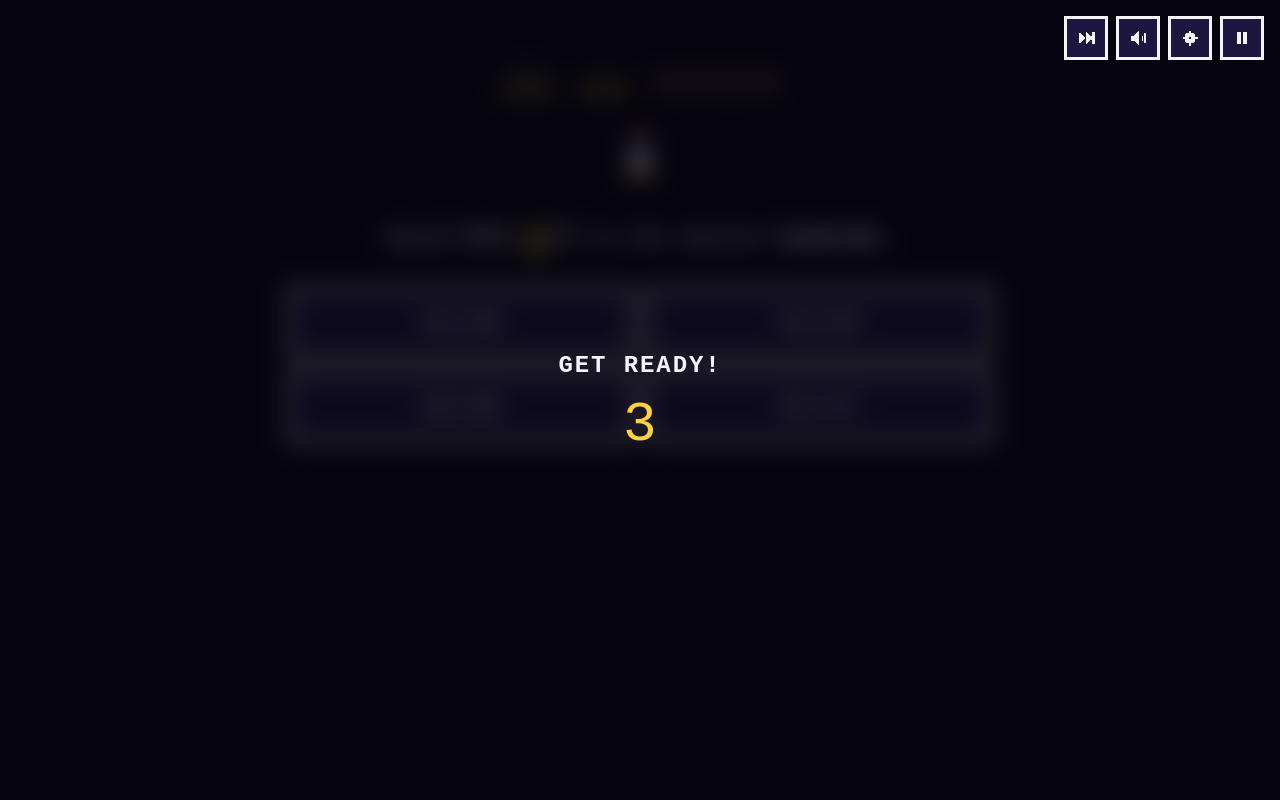
Scenario: GameScreen › opens the pause menu when Pause is pressed
What coordinates should you click on to do the following:
click the button named "Pause"
I would click on:
 (1242, 38)
Its box is [1220,16,1264,60].
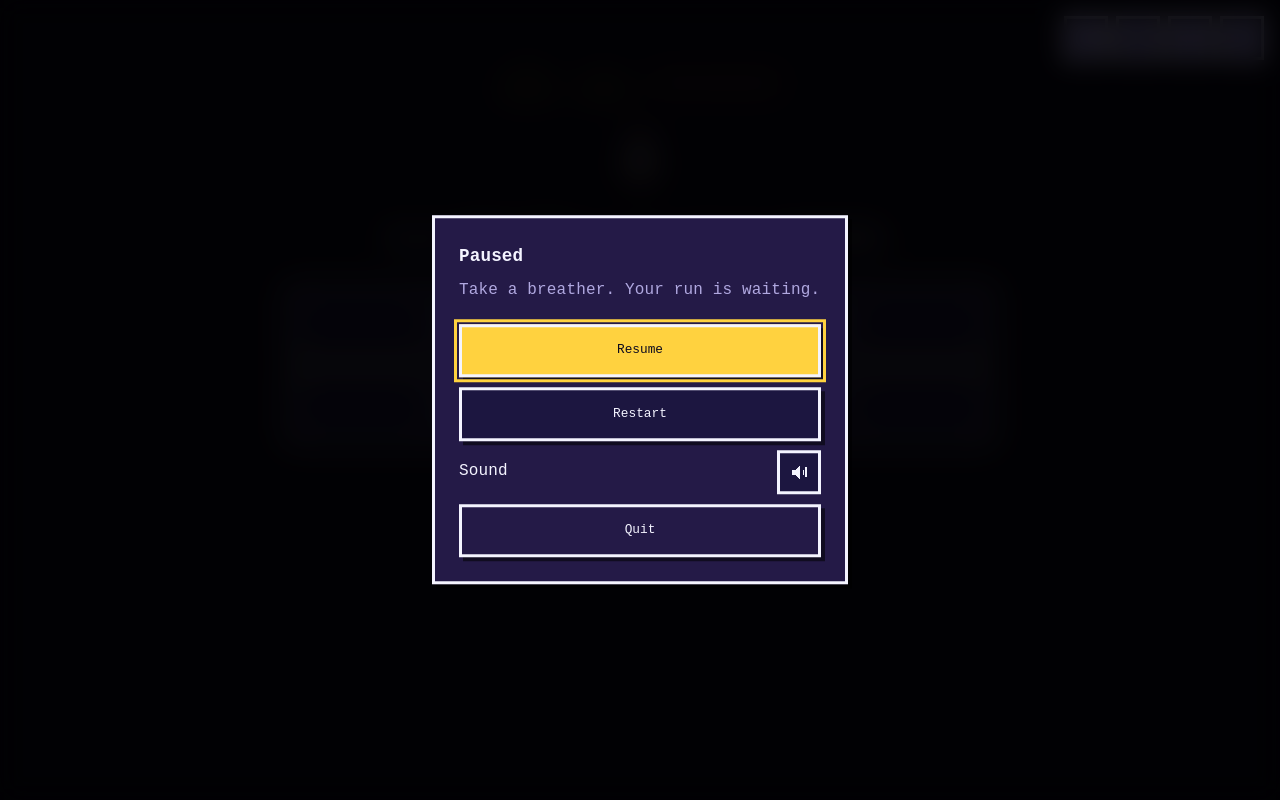
Expected: the heading "Paused" is shown, [459,246,523,266]
